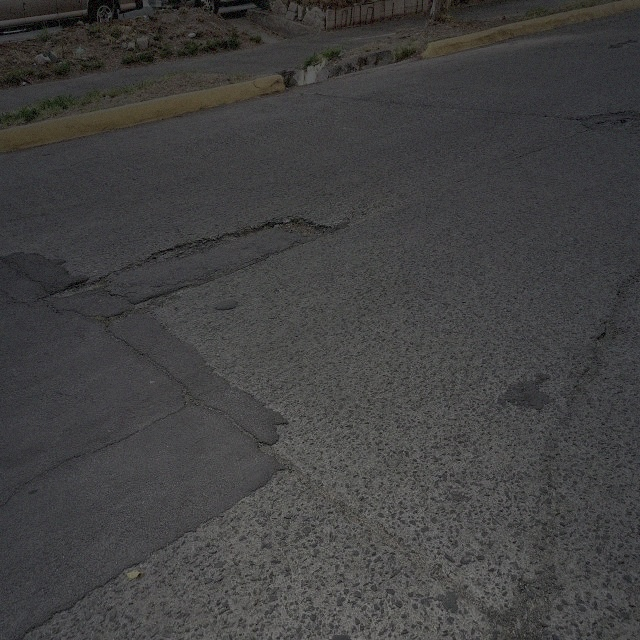pothole: (149, 231, 219, 267), (53, 272, 109, 304), (280, 212, 327, 238), (98, 306, 133, 332), (599, 113, 636, 134)
